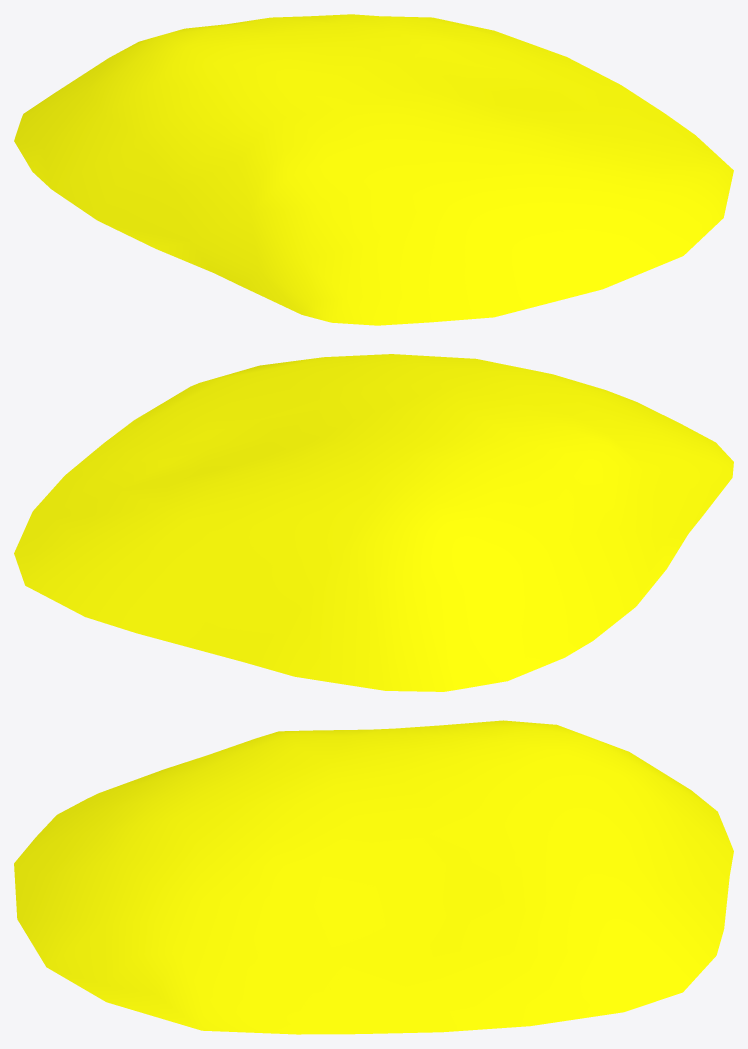
File: gravel_pile_hr_2.glb
The picture shows the model from 3 angles, top to bottom: view 1: azimuth 30°, elevation 25°; view 2: azimuth 150°, elevation 25°; view 3: azimuth 270°, elevation 25°; orthographic projection. The views are drawn at different scales.
Parts seen in each view (by area): view 1: gravel_pile_hr_2; view 2: gravel_pile_hr_2; view 3: gravel_pile_hr_2.
Part boxes in pixels (bbox=[...]): gravel_pile_hr_2: bbox=[14, 14, 733, 325]; gravel_pile_hr_2: bbox=[14, 354, 733, 691]; gravel_pile_hr_2: bbox=[14, 720, 733, 1034].
Bounding box in the file's own units: 1.49 × 0.2791 × 1.66.
1 material, 1 textured.
